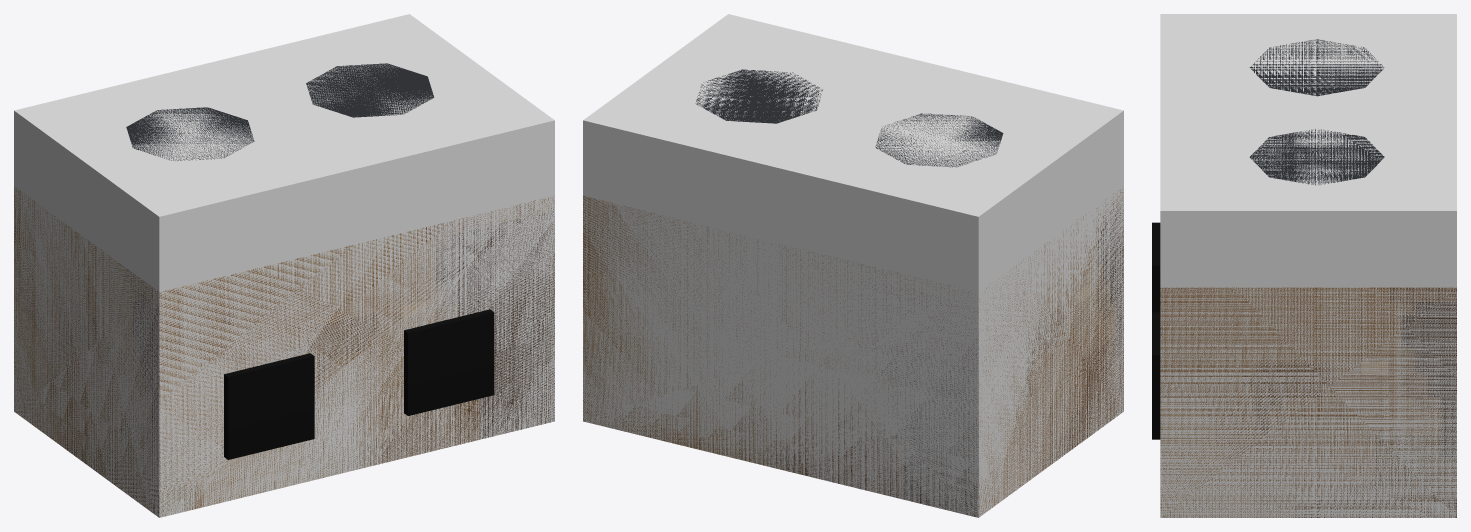
Rendered from JP_Prop_Kamado_A.glb.
The picture shows the model from 3 angles, left to right: view 1: azimuth 30°, elevation 25°; view 2: azimuth 150°, elevation 25°; view 3: azimuth 270°, elevation 25°; orthographic projection.
Parts seen in each view (by area): view 1: COL_JP_Prop_Kamado_A, JP_Prop_Kamado_A; view 2: COL_JP_Prop_Kamado_A, JP_Prop_Kamado_A; view 3: COL_JP_Prop_Kamado_A, JP_Prop_Kamado_A.
Part boxes in pixels (bbox=[...]): COL_JP_Prop_Kamado_A: bbox=[14, 14, 554, 517]; JP_Prop_Kamado_A: bbox=[14, 63, 554, 517]; COL_JP_Prop_Kamado_A: bbox=[583, 14, 1123, 517]; JP_Prop_Kamado_A: bbox=[583, 69, 1123, 516]; COL_JP_Prop_Kamado_A: bbox=[1160, 14, 1456, 517]; JP_Prop_Kamado_A: bbox=[1152, 39, 1456, 517].
Bounding box in the file's own units: 1.1 × 0.8 × 0.72.
Materials: 3 (3 with a texture image).
